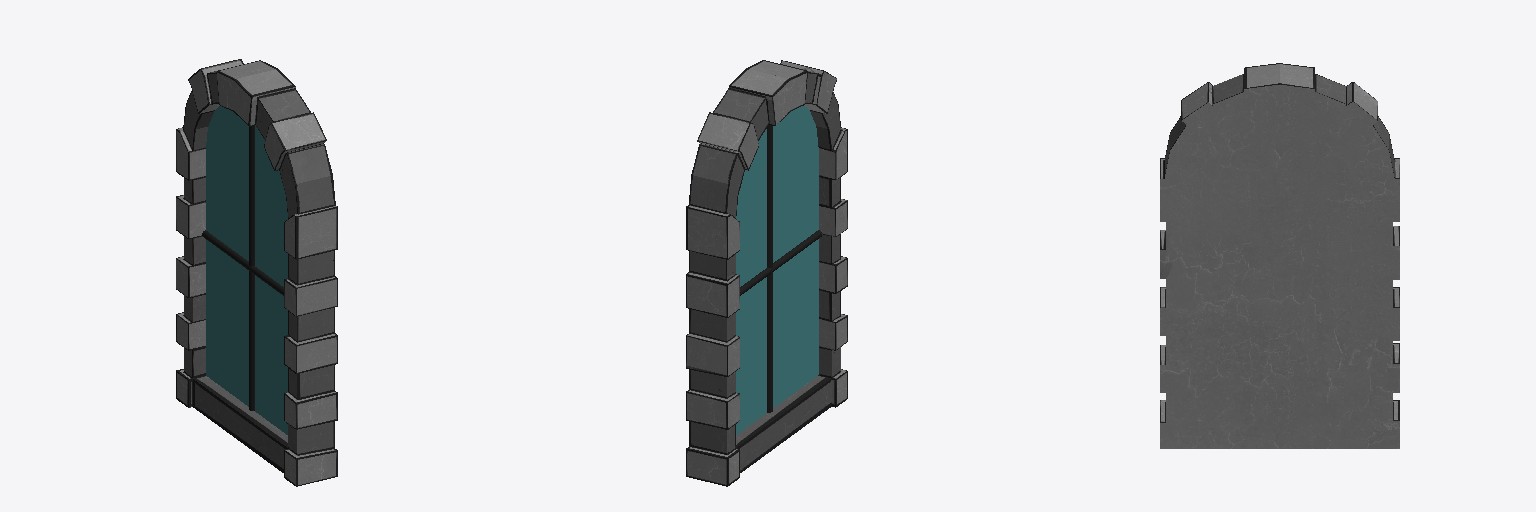
The picture shows the model from 3 angles: view 1: azimuth 30°, elevation 25°; view 2: azimuth 150°, elevation 25°; view 3: azimuth 270°, elevation 25°; orthographic projection.
Visible parts, largest first — view 1: polySurface1_pCube38SG, pCube38FBXASC046001_pCube38FBXASC046001SG, polySurface3_pCylinder25SG; view 2: polySurface1_pCube38SG, pCube38FBXASC046001_pCube38FBXASC046001SG, polySurface3_pCylinder25SG; view 3: polySurface1_pCube38SG.
Boxes of the visible parts, x1,y1,x2,y2 form: polySurface1_pCube38SG: [176, 59, 337, 486]; pCube38FBXASC046001_pCube38FBXASC046001SG: [206, 106, 287, 434]; polySurface3_pCylinder25SG: [202, 125, 283, 410]; polySurface1_pCube38SG: [686, 60, 847, 486]; pCube38FBXASC046001_pCube38FBXASC046001SG: [736, 106, 818, 434]; polySurface3_pCylinder25SG: [740, 125, 821, 412]; polySurface1_pCube38SG: [1160, 63, 1399, 448].
Bounding box in the file's own units: 4.02 × 31.66 × 18.93.
3 materials, 3 textured.